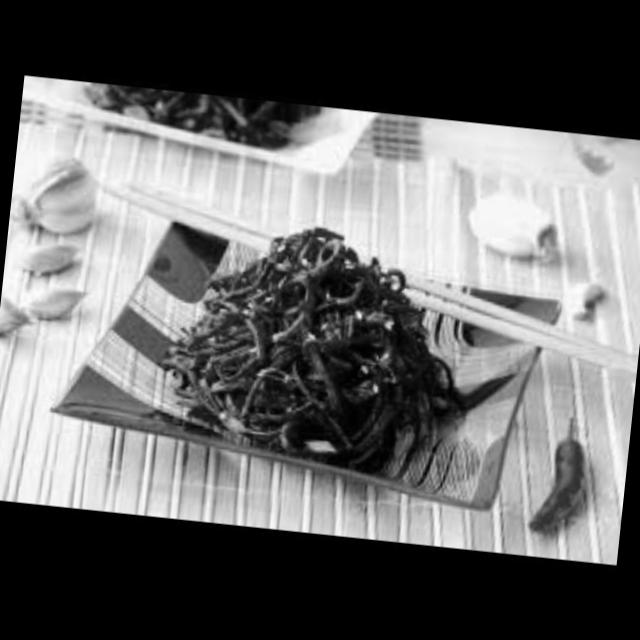cu cai duong: (159, 212, 448, 462), (86, 80, 336, 164)
cu toi: (448, 170, 573, 270), (12, 152, 106, 240), (22, 265, 94, 335), (7, 234, 91, 286), (0, 287, 37, 345)
ot cay: (520, 422, 596, 558)
